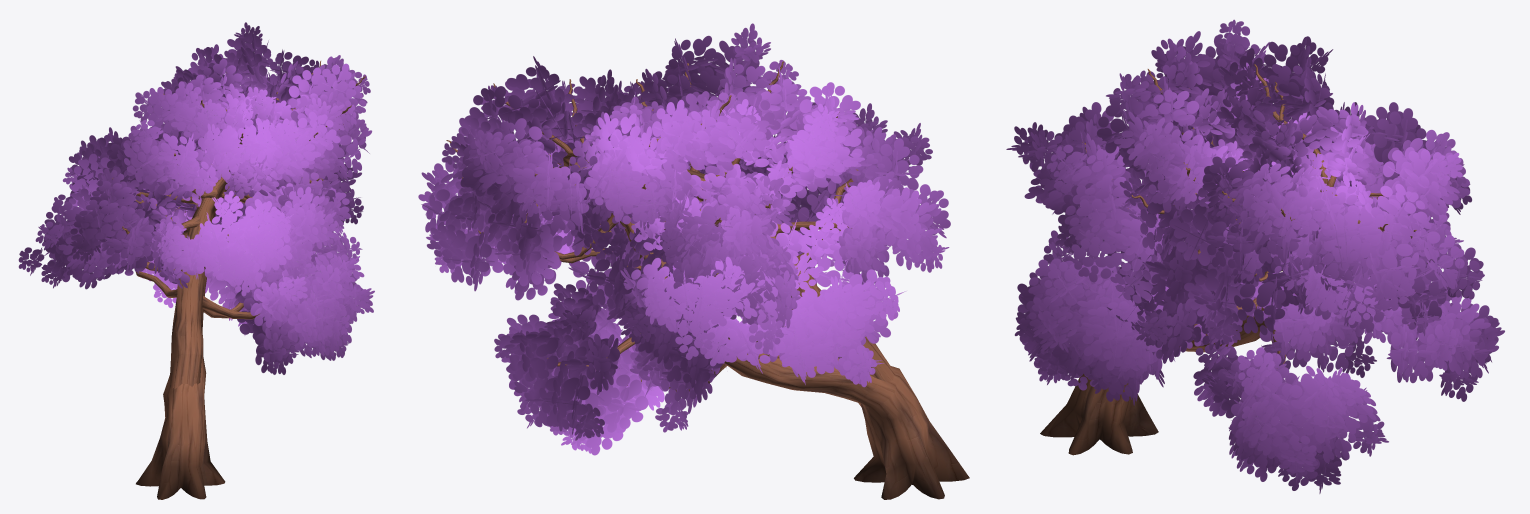
Rendered from CherryBlossom_2.glb.
The picture shows the model from 3 angles, left to right: view 1: azimuth 30°, elevation 25°; view 2: azimuth 150°, elevation 25°; view 3: azimuth 270°, elevation 25°; orthographic projection. The views are drawn at different scales.
Visible parts, largest first — view 1: CherryBlossom_2; view 2: CherryBlossom_2; view 3: CherryBlossom_2.
Part boxes in pixels (x1,y1,x2,y2): CherryBlossom_2: [18, 22, 374, 499]; CherryBlossom_2: [418, 23, 969, 499]; CherryBlossom_2: [1006, 19, 1504, 493].
Size of the model in its own units: 12.43 by 11.56 by 12.23.
Materials: 2 (2 with a texture image).
